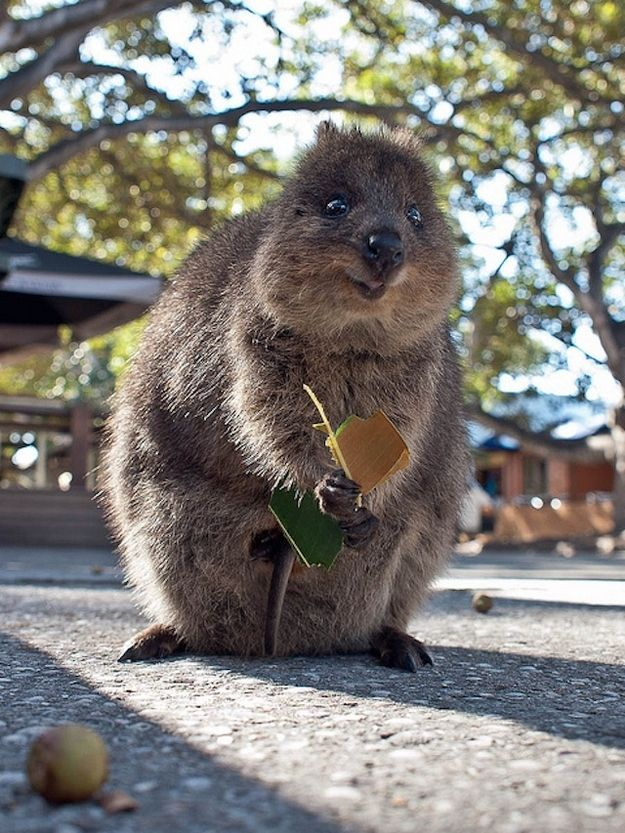quokka: (98, 108, 476, 711)
